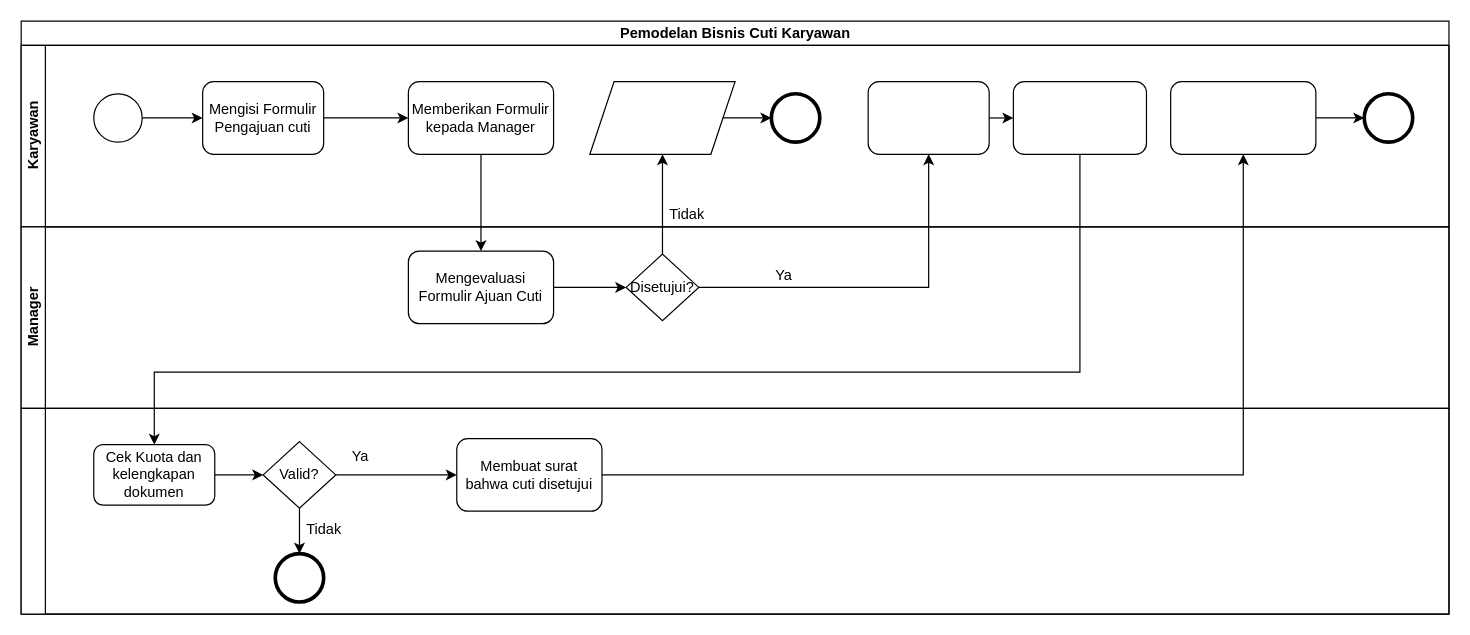
This 1470x635 diagram has some shape labels left out. The shapes that lost their labels are listed below. From the top down, each one's box as (x1, y1, x2, y2) in pixels, then its label:
(589, 80, 735, 154): Menerima surat permohonan yang tidak disetujui
(867, 80, 989, 154): Menerima surat permohonan cuti yang telah ditanda tangani
(1012, 80, 1146, 154): Mengantar Dokumen ke bagian Human resource
(1169, 80, 1316, 154): Menerima surat yang telah ditanda tangan dan di beri nomor
(20, 407, 1449, 614): Human Resource
